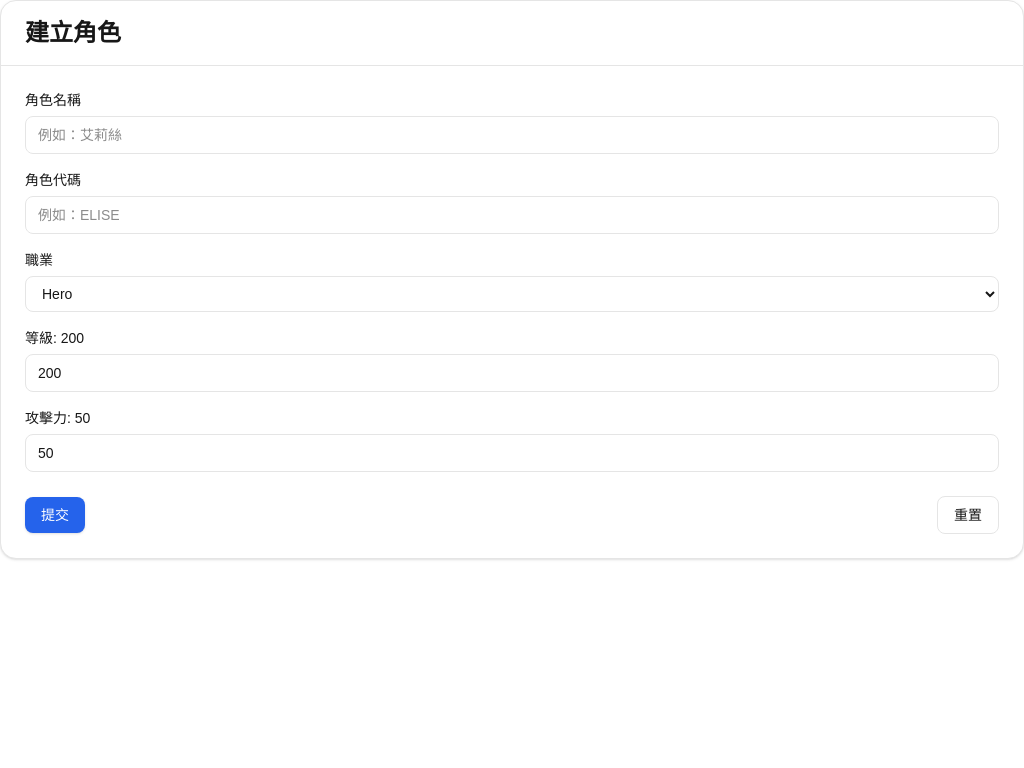
Test case: CharacterForm › shows error when level is out of 1–300 range
Type "X" into the field with placeholder "例如：艾莉絲" at (512, 135), box [25,116,999,154]
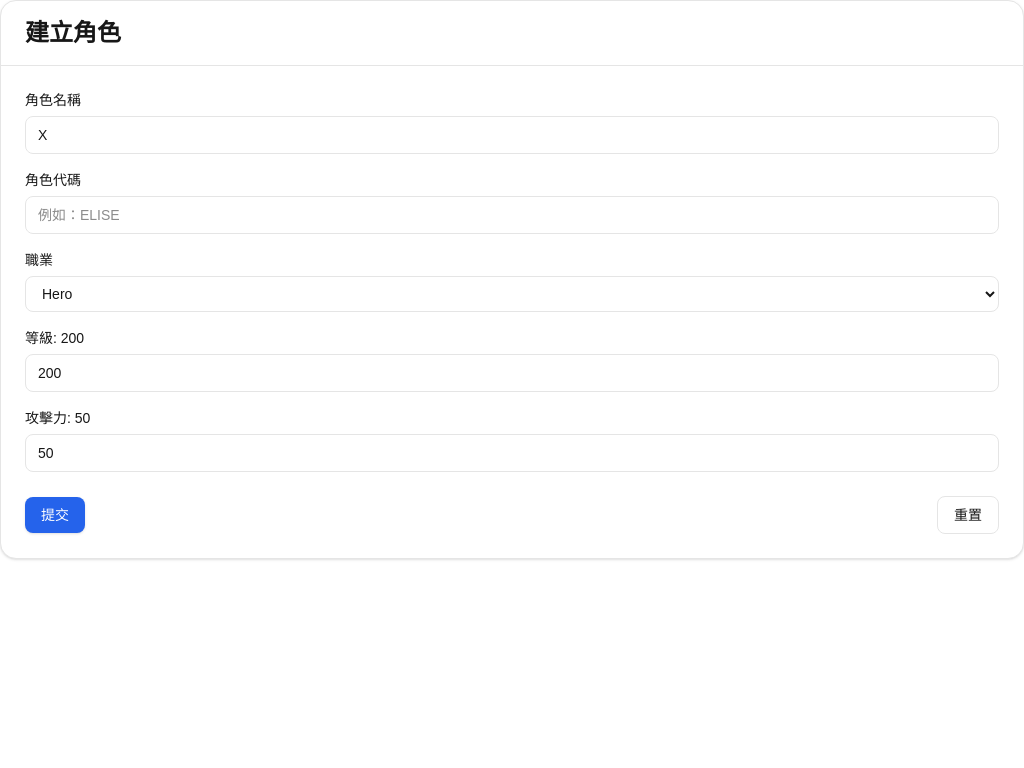
Type "X1" into the field with placeholder "例如：ELISE" at (512, 215), box [25,196,999,234]
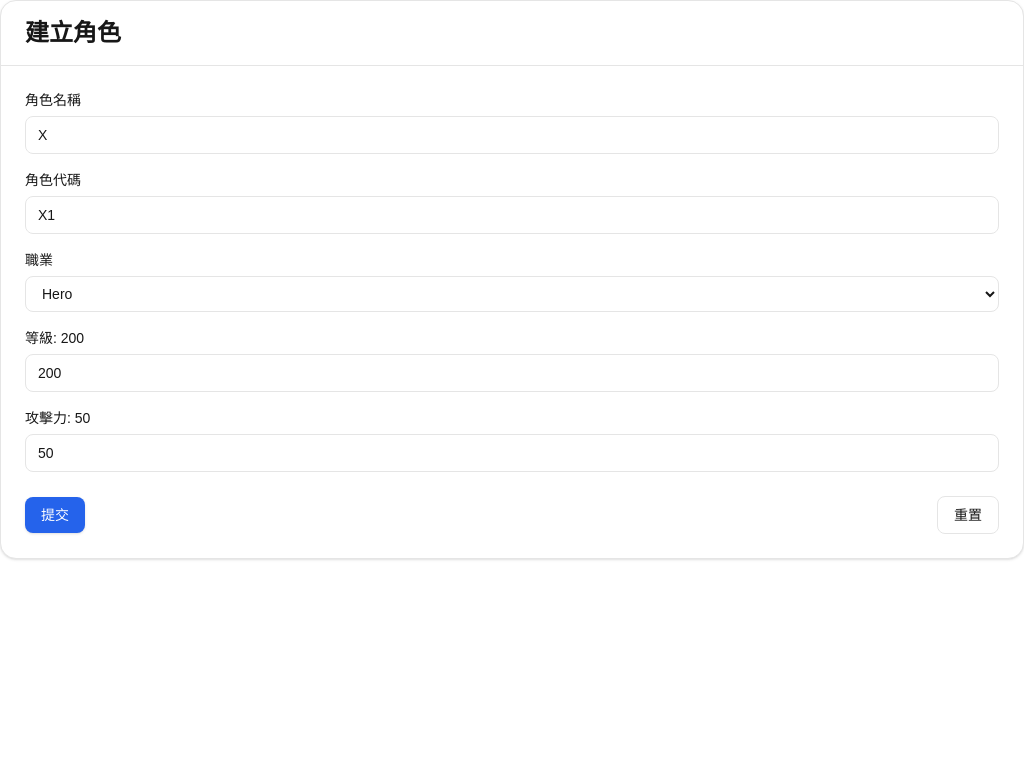
Replace the text in the number field showing "200" below "等級: 200" with "400" at (512, 373), box [25,354,999,392]
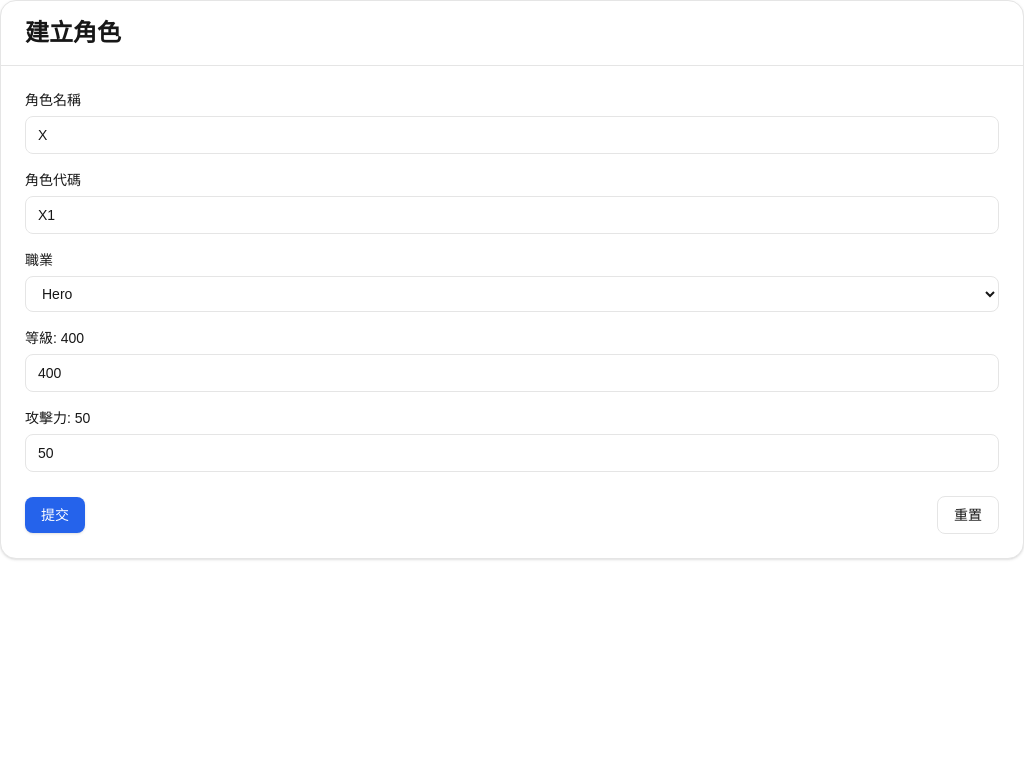
Click the button "提交" at (55, 515), box [25,497,85,533]
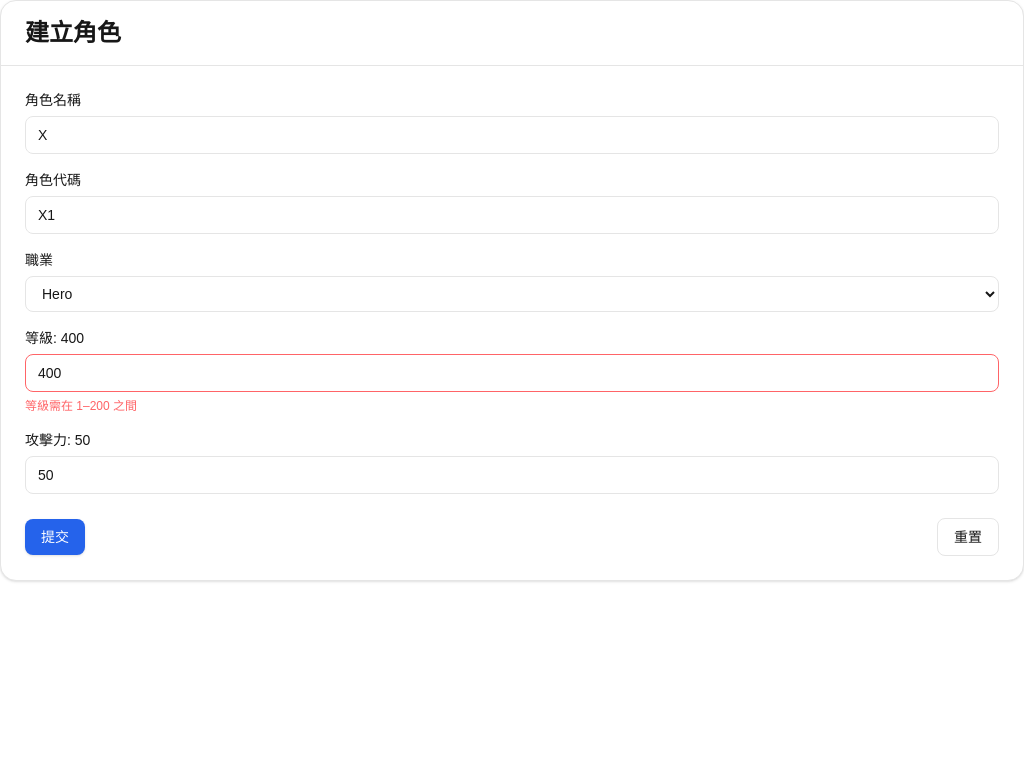
Now the text "等級需在 1–200 之間" is shown, box [25,399,137,413]
